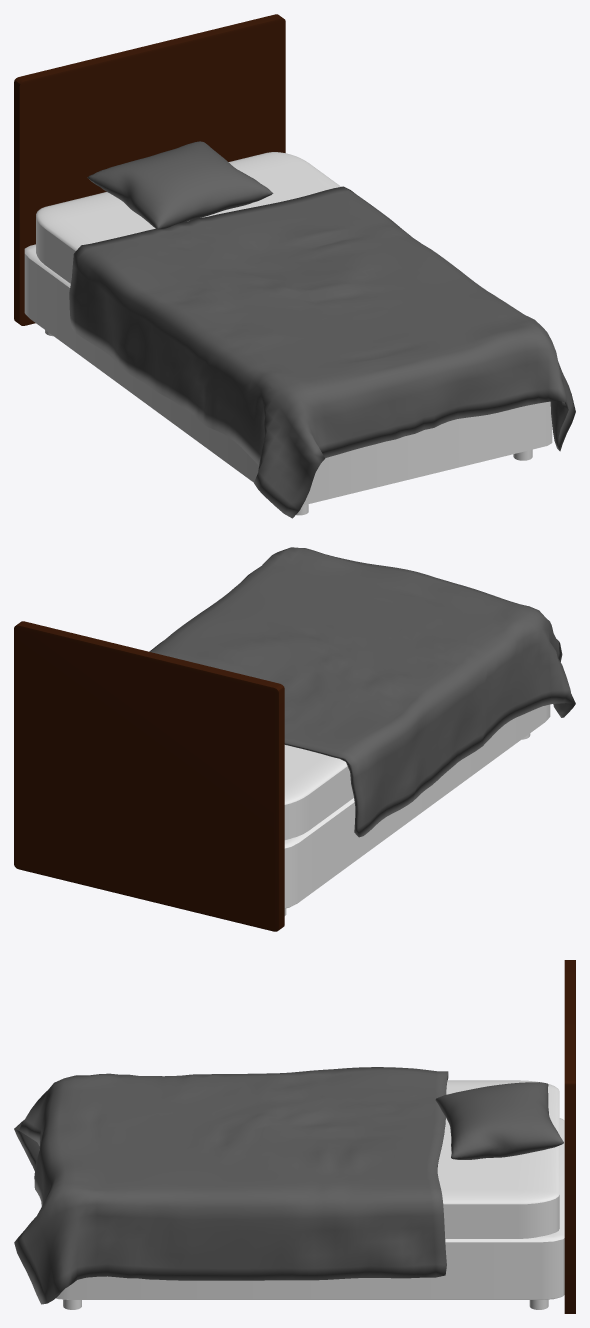
File: bed_single.glb
3 renders of one model, top to bottom at view 1: azimuth 30°, elevation 25°; view 2: azimuth 150°, elevation 25°; view 3: azimuth 270°, elevation 25°, orthographic. The views are drawn at different scales.
Parts seen in each view (by area): view 1: Bed.001, Bed.002, Bed; view 2: Bed.002, Bed.001, Bed; view 3: Bed.001, Bed, Bed.002.
Part boxes in pixels (bbox=[...]): Bed.001: bbox=[69, 141, 575, 518]; Bed.002: bbox=[14, 14, 285, 325]; Bed: bbox=[24, 152, 552, 515]; Bed.002: bbox=[14, 621, 284, 931]; Bed.001: bbox=[149, 547, 575, 837]; Bed: bbox=[284, 704, 550, 915]; Bed.001: bbox=[14, 1067, 563, 1304]; Bed: bbox=[55, 1080, 564, 1309]; Bed.002: bbox=[564, 960, 575, 1313].
Size of the model in its own units: 2.79 by 2.04 by 4.45.
